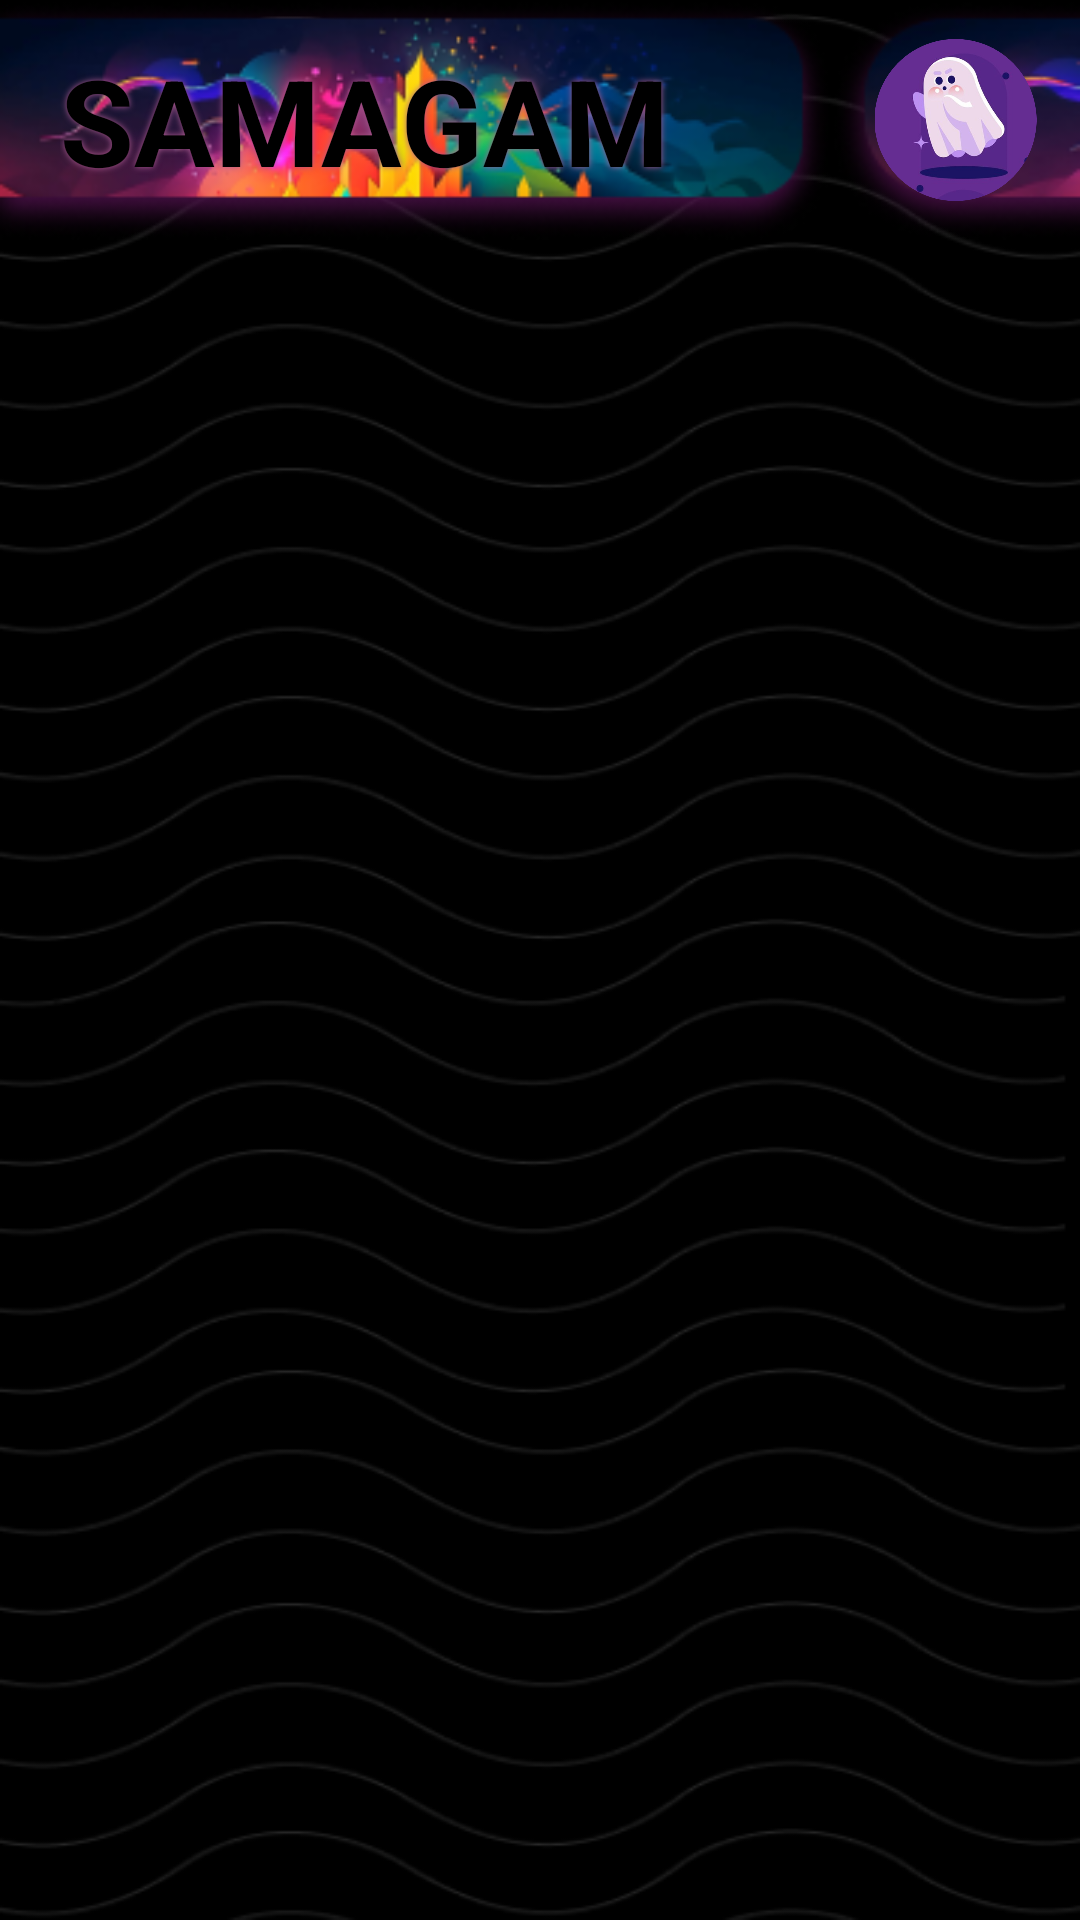

Named icons in this screenshot (1080x1920) and their bounding boxes, BBox(x1, y1, x2, y2):
ghost: BBox(831, 18, 1080, 228)
